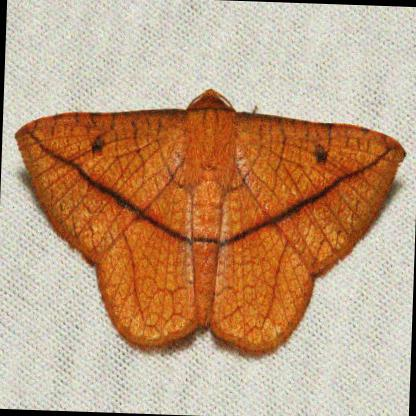Leaf Webber: (16, 85, 407, 356)
